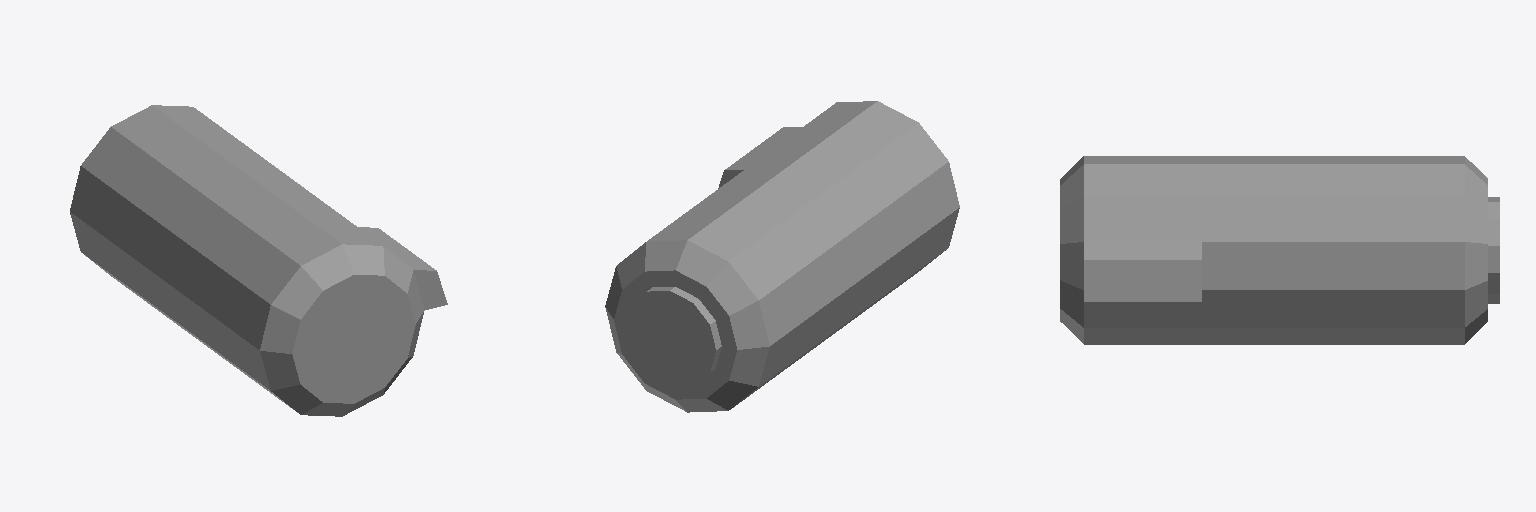
File: tanker.obj
3 views of the same model, side by side, from view 1: azimuth 30°, elevation 25°; view 2: azimuth 150°, elevation 25°; view 3: azimuth 270°, elevation 25° (orthographic).
Visible parts, largest first — view 1: Circle; view 2: Circle; view 3: Circle.
Part boxes in pixels (x1,y1,x2,y2): Circle: (70, 105, 447, 416); Circle: (605, 101, 959, 412); Circle: (1060, 156, 1499, 344).
Bounding box in the file's own units: 2.29 × 2 × 4.62.